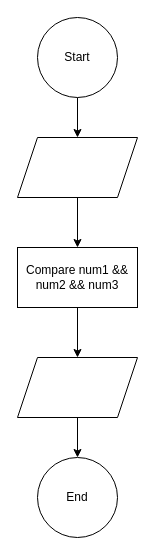
Image size: 155x555. Some labels were removed from this diagram. Each missing label, with the centre of its shape:
num1 = 1 num2 = 2 num3 = 3: (x=77, y=167)
Output highest num = 3: (x=77, y=387)
